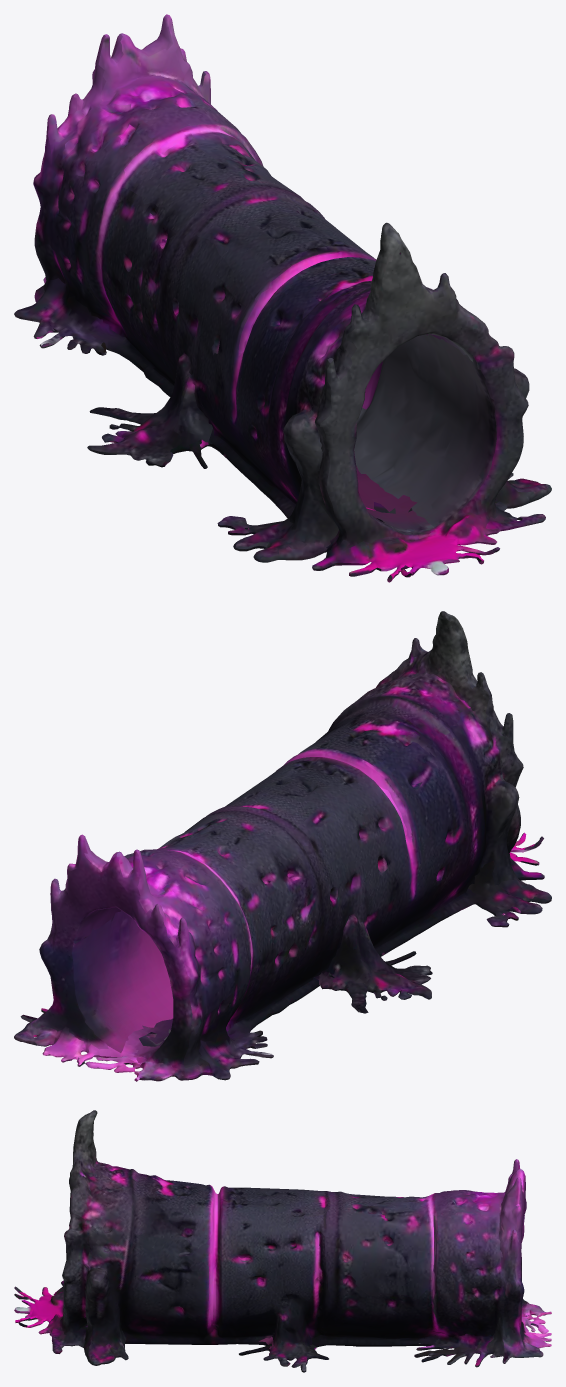
File: tunnel-root-2-generated-2026-05-17T19-22-25-401Z.medium.glb
3 views of the same model, one above another, from view 1: azimuth 30°, elevation 25°; view 2: azimuth 150°, elevation 25°; view 3: azimuth 270°, elevation 25° (orthographic). The views are drawn at different scales.
Visible parts, largest first — view 1: temp_mesh.ply; view 2: temp_mesh.ply; view 3: temp_mesh.ply.
Boxes of the visible parts, bbox=[...] form: temp_mesh.ply: bbox=[14, 14, 551, 582]; temp_mesh.ply: bbox=[14, 611, 551, 1081]; temp_mesh.ply: bbox=[14, 1110, 551, 1372].
Size of the model in its own units: 0.9304 by 0.8313 by 1.97.
1 material, 1 textured.
